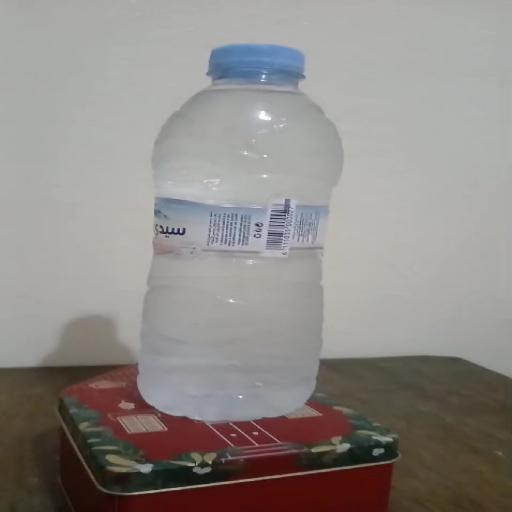bouteille conformite: (136, 33, 331, 415)
